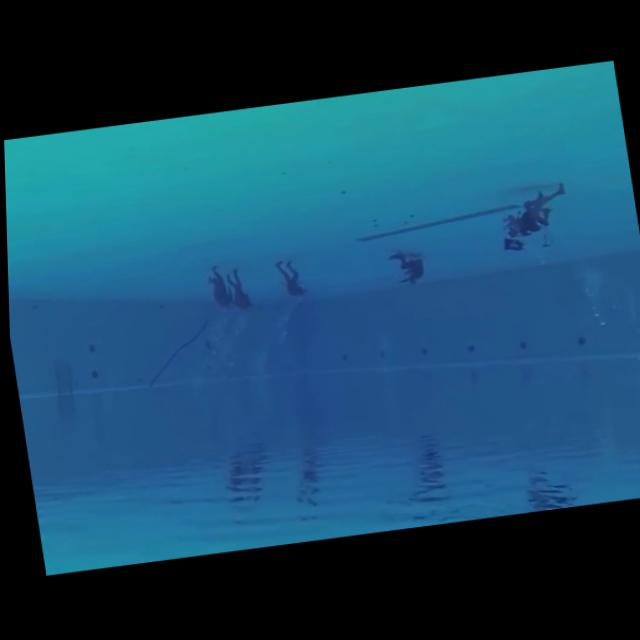human: (487, 183, 582, 261), (380, 240, 431, 298), (268, 253, 314, 311), (218, 262, 256, 326), (198, 260, 234, 327)
